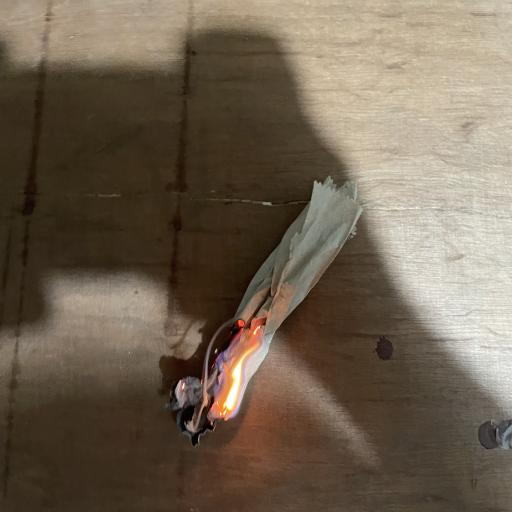fire: (144, 292, 298, 452)
